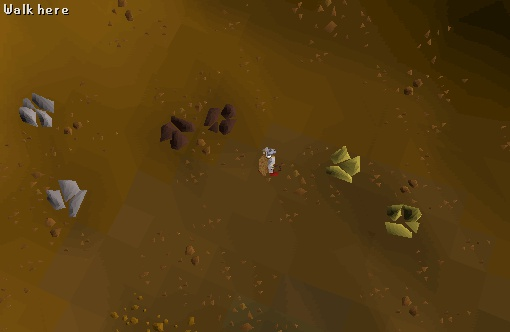gold: (321, 139, 370, 190), (377, 197, 426, 248)
iron: (198, 99, 244, 141), (151, 110, 197, 152)
tin: (37, 174, 99, 222), (5, 87, 67, 135)
